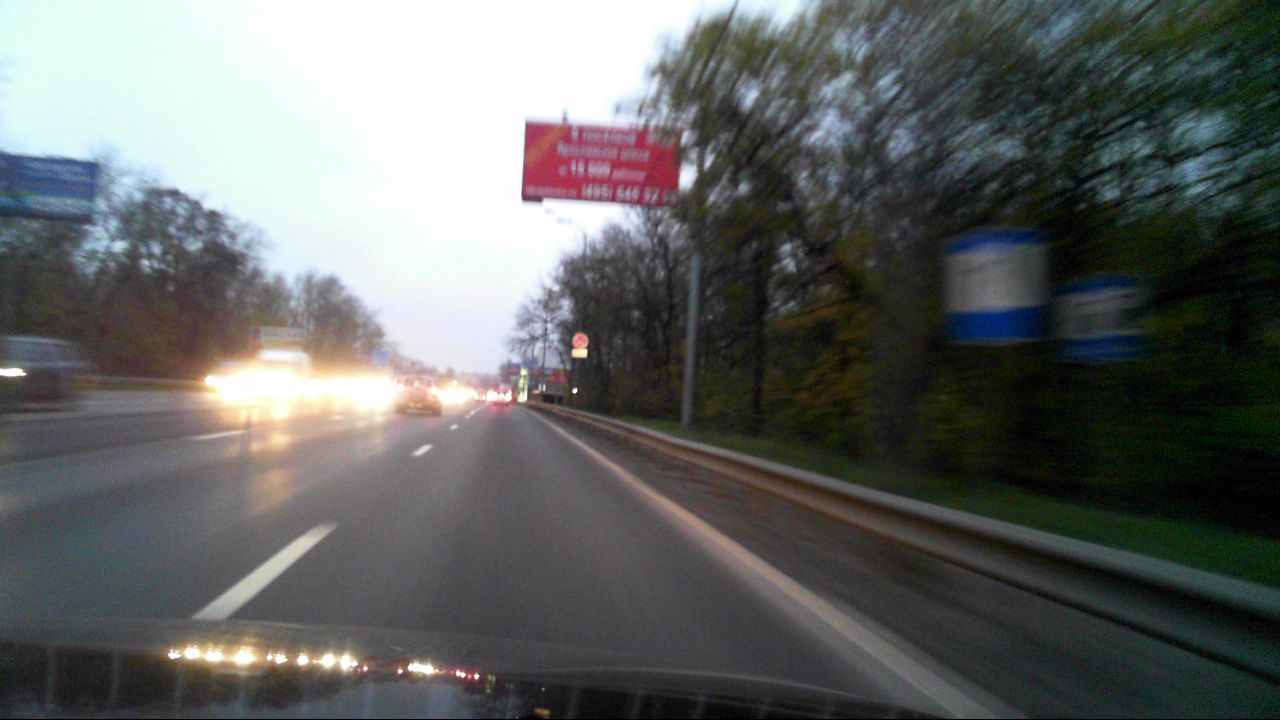No Parking: (572, 332, 588, 348)
